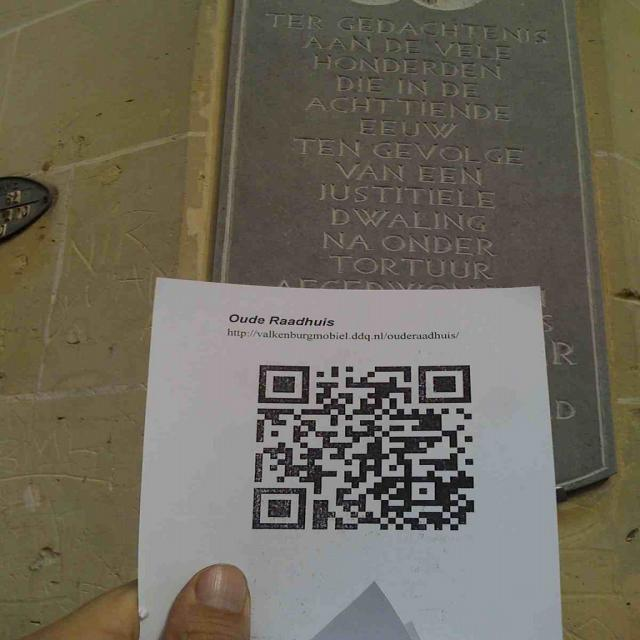qrcode: (254, 366, 475, 532)
